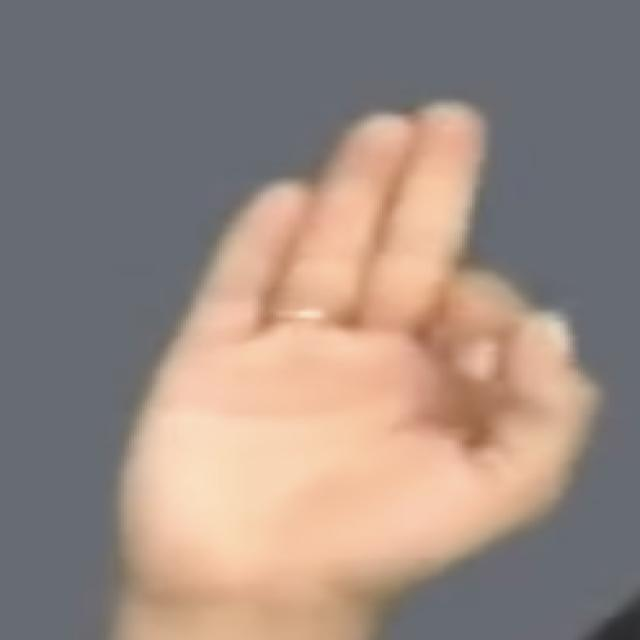F: (100, 89, 620, 609)
